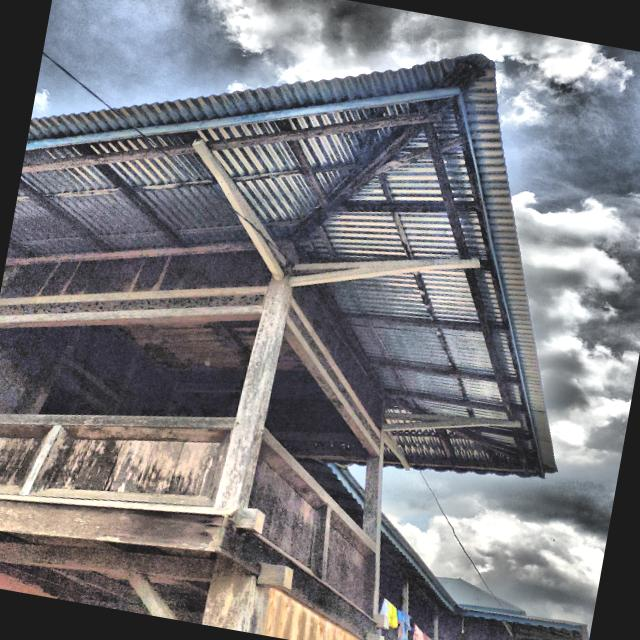door: (38, 355, 123, 415)
ornamen: (27, 426, 232, 505), (247, 438, 328, 580), (324, 508, 376, 619), (0, 424, 53, 494)
roof: (6, 55, 555, 475), (381, 515, 589, 640), (304, 462, 363, 518)
wall: (0, 325, 173, 416), (262, 588, 361, 640)
